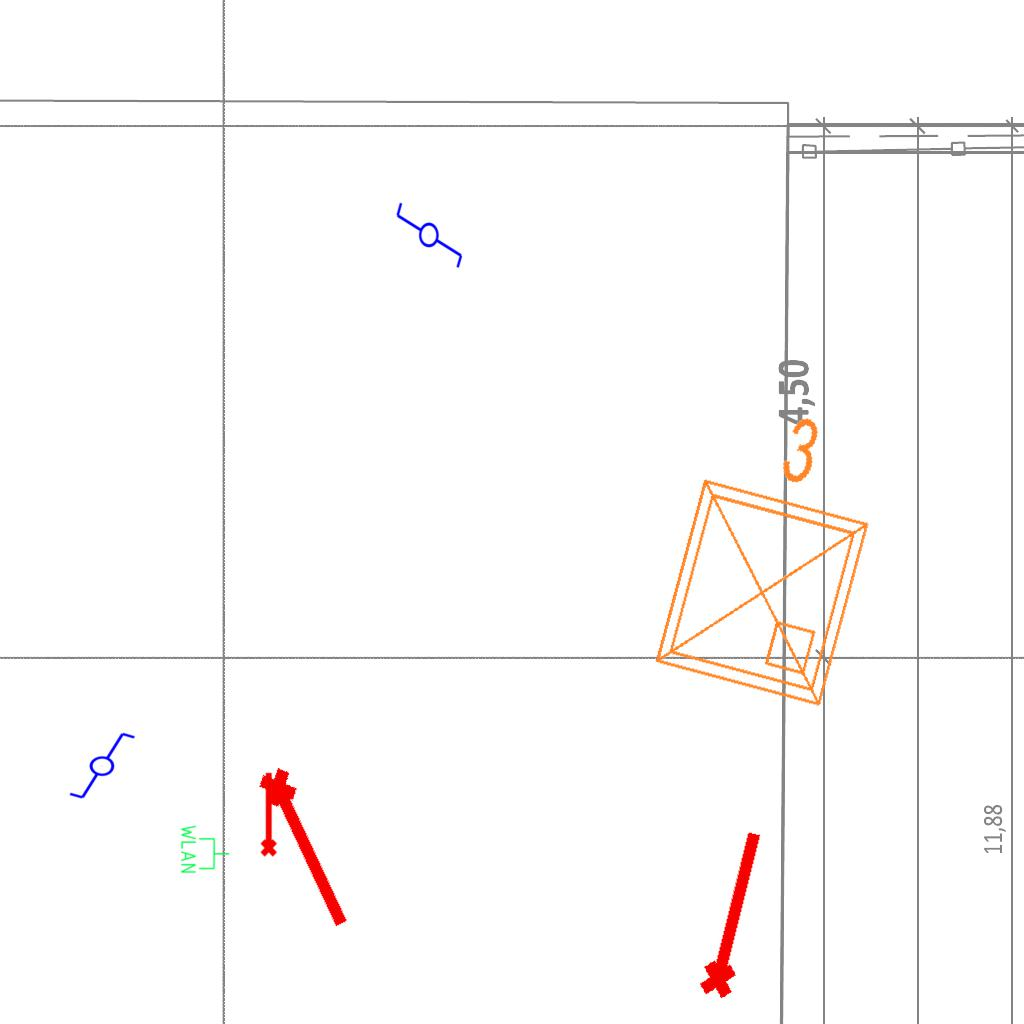ASR_Ansaugoeffnung: (250, 758, 368, 938), (688, 822, 776, 1004), (256, 770, 279, 858)
Einbaudownlights_LED_Konferenzraeume: (629, 380, 909, 724)
WLAN: (179, 823, 231, 875)
Wechselschalter: (394, 192, 466, 270), (59, 729, 137, 801)
